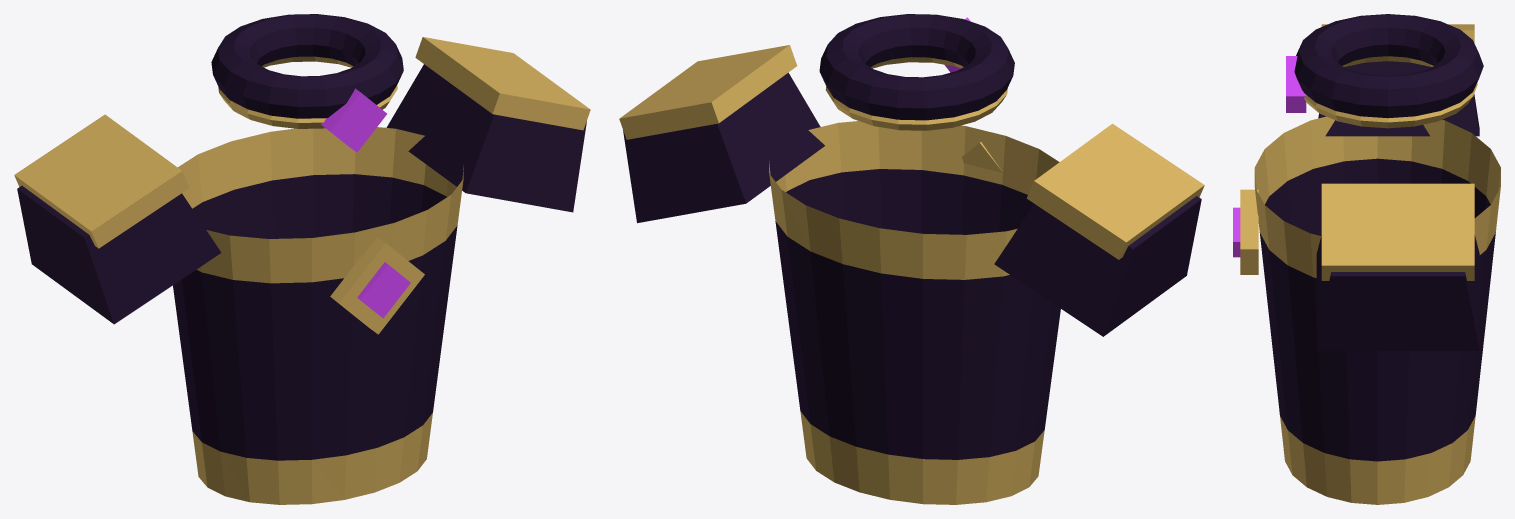
Rendered from Skin_ReaperArmor.obj.
The picture shows the model from 3 angles, left to right: view 1: azimuth 30°, elevation 25°; view 2: azimuth 150°, elevation 25°; view 3: azimuth 270°, elevation 25°; orthographic projection. The views are drawn at different scales.
Visible parts, largest first — view 1: Skin_ReaperArmor_BaseArmor, Skin_ReaperArmor_TrimMetal, Skin_ReaperArmor_EmissiveCore; view 2: Skin_ReaperArmor_BaseArmor, Skin_ReaperArmor_TrimMetal; view 3: Skin_ReaperArmor_BaseArmor, Skin_ReaperArmor_TrimMetal, Skin_ReaperArmor_EmissiveCore.
Boxes of the visible parts, box(x1,y1,x2,y2) form: Skin_ReaperArmor_BaseArmor: box(17, 14, 586, 460); Skin_ReaperArmor_TrimMetal: box(14, 37, 590, 504); Skin_ReaperArmor_EmissiveCore: box(321, 88, 410, 318); Skin_ReaperArmor_BaseArmor: box(623, 14, 1201, 459); Skin_ReaperArmor_TrimMetal: box(619, 45, 1204, 504); Skin_ReaperArmor_BaseArmor: box(1259, 14, 1495, 461); Skin_ReaperArmor_TrimMetal: box(1240, 24, 1500, 504); Skin_ReaperArmor_EmissiveCore: box(1233, 56, 1306, 257).
Bounding box in the file's own units: 0.5644 × 0.442 × 0.2628.
